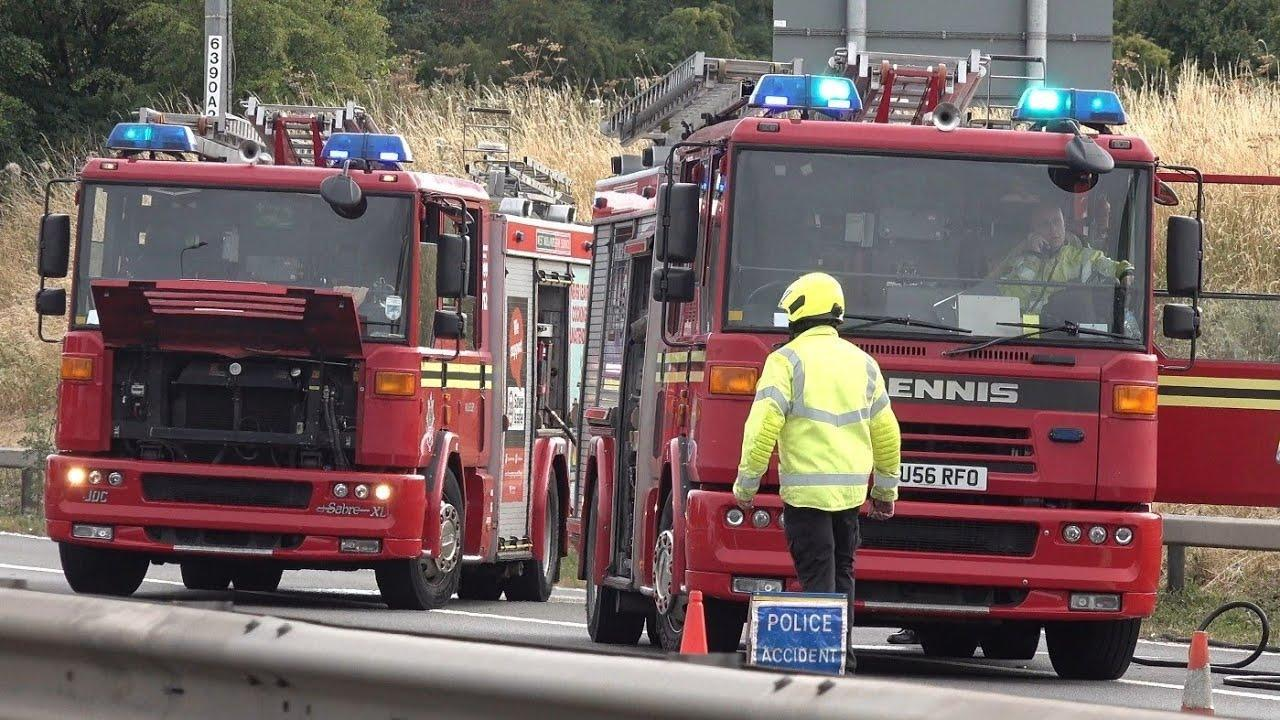Fire-engine: (583, 54, 1203, 680), (43, 110, 592, 611), (750, 65, 880, 130), (1020, 70, 1132, 132), (321, 119, 412, 172), (105, 120, 204, 168)
